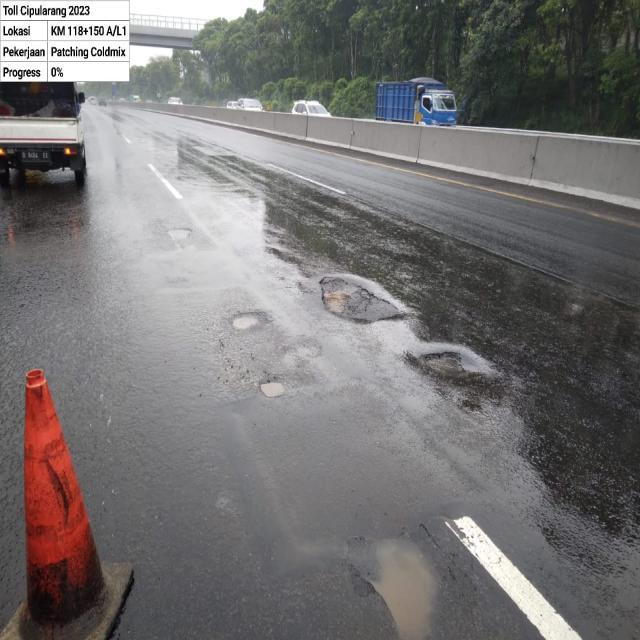Buraco: (341, 529, 444, 640), (316, 274, 410, 326), (402, 349, 488, 389), (228, 310, 272, 334), (163, 225, 194, 253), (256, 378, 291, 401)
